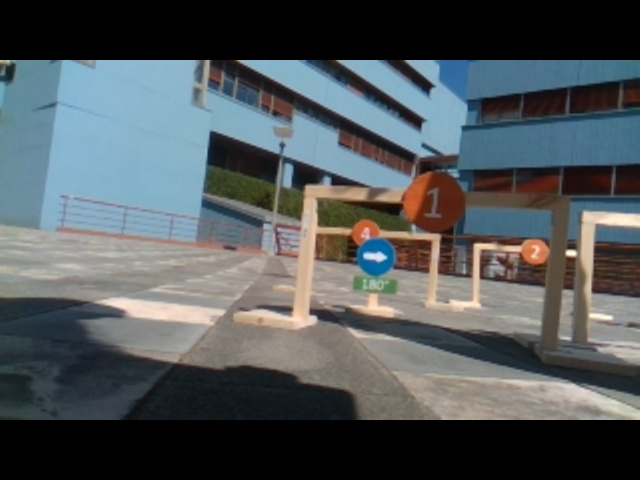180_degree: (352, 276, 397, 291)
arrow_right: (355, 237, 395, 278)
checkpoint_foot: (535, 331, 636, 370), (231, 302, 318, 332), (421, 295, 465, 311), (448, 297, 487, 307)
checkpoint_side: (540, 189, 574, 351), (288, 177, 324, 319), (570, 205, 600, 348), (425, 234, 443, 299), (470, 240, 485, 302)
checkpoint_signal: (314, 225, 441, 244), (472, 241, 550, 256)
four: (351, 218, 379, 247)
one: (400, 166, 470, 234)
two: (519, 239, 551, 264)
